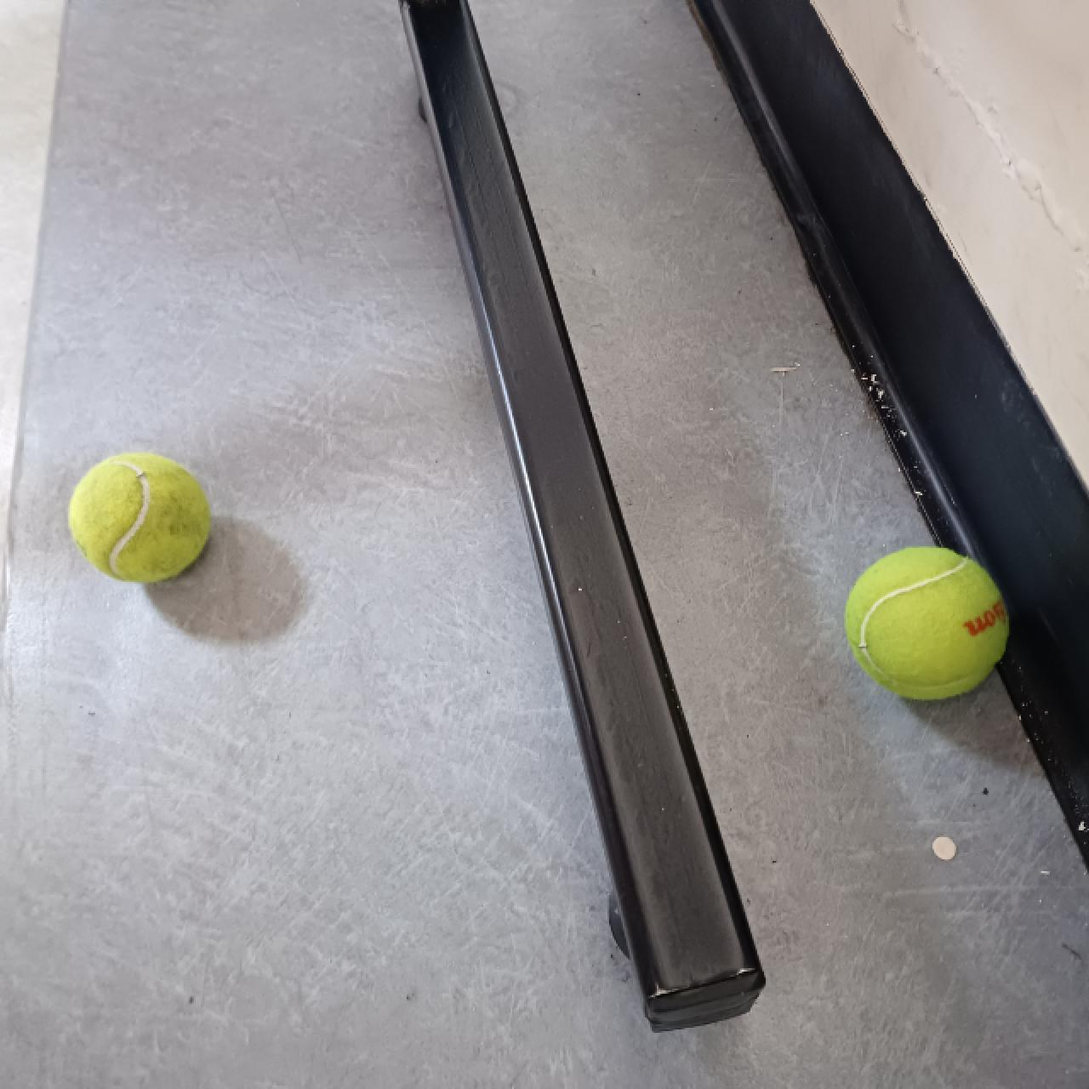tennis-ball: (845, 546, 1010, 702), (67, 449, 213, 585)
